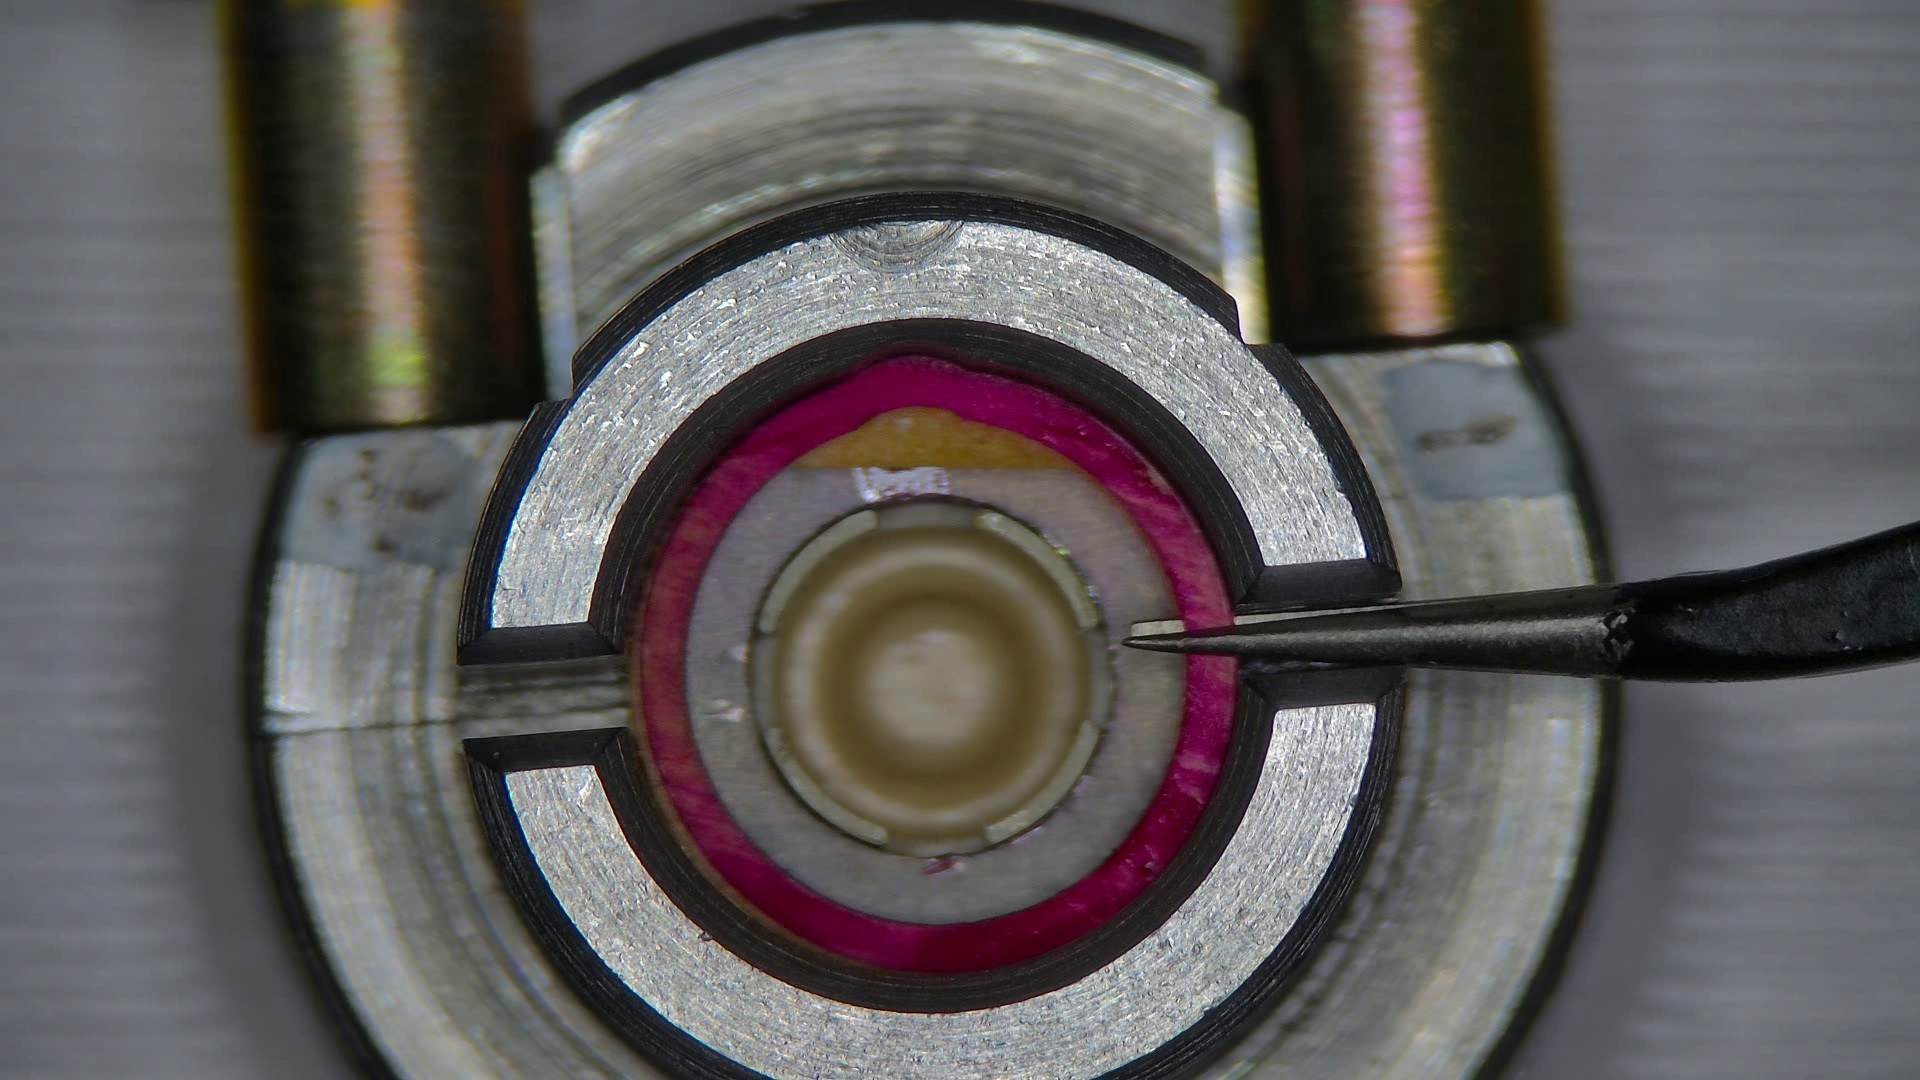GreyOring: (638, 357, 1236, 972)
YellowOring: (686, 465, 1185, 920)
redOring: (786, 407, 1079, 472)
